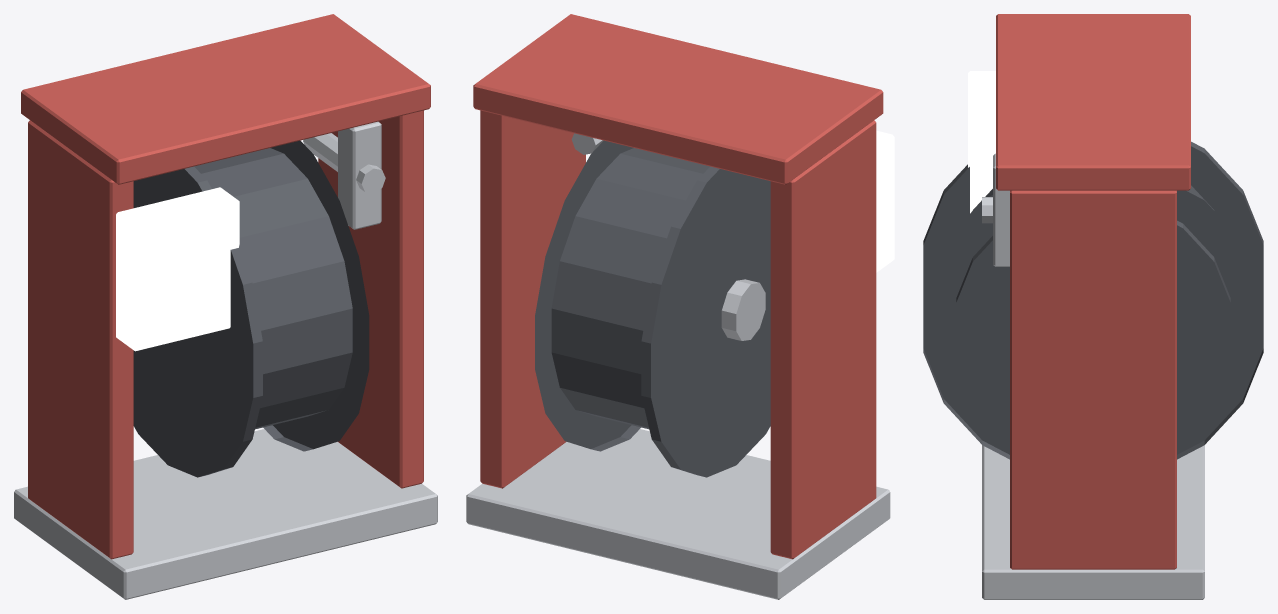
3 renders of one model, left to right at view 1: azimuth 30°, elevation 25°; view 2: azimuth 150°, elevation 25°; view 3: azimuth 270°, elevation 25°, orthographic.
Visible parts, largest first — view 1: fire-hose-reel, drum-hose; view 2: fire-hose-reel, drum-hose; view 3: fire-hose-reel, drum-hose.
Part boxes in pixels (bbox=[...]): fire-hose-reel: bbox=[14, 14, 437, 599]; drum-hose: bbox=[133, 140, 369, 477]; fire-hose-reel: bbox=[466, 14, 894, 599]; drum-hose: bbox=[535, 140, 770, 477]; fire-hose-reel: bbox=[968, 14, 1204, 599]; drum-hose: bbox=[923, 141, 1263, 459].
Bounding box in the file's own units: 1.3 × 1.72 × 1.22.
